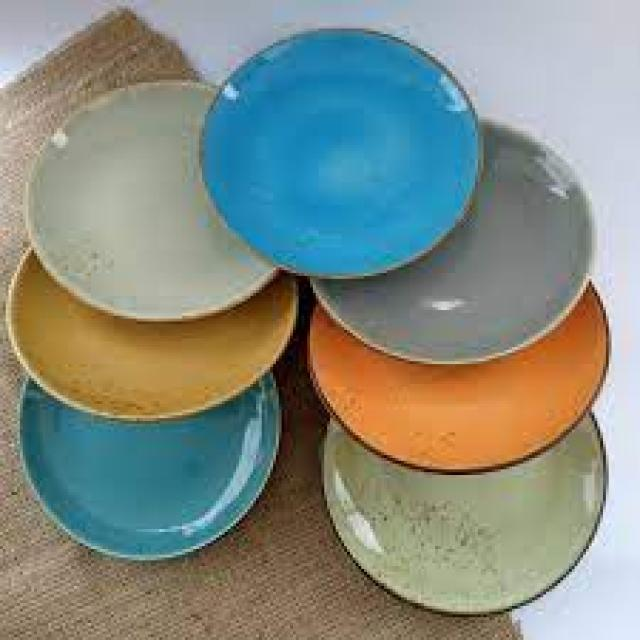Plate: (189, 19, 496, 290), (324, 426, 616, 610), (17, 388, 290, 562)
